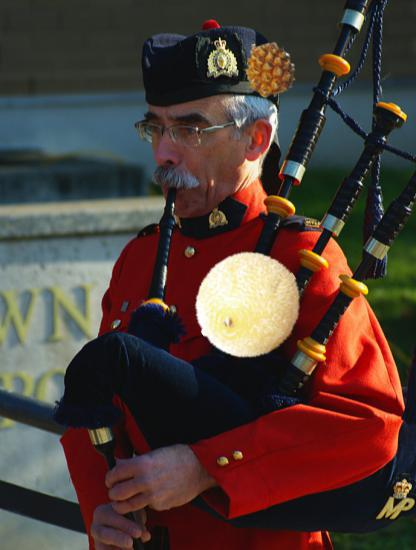Cantaloupe: (194, 251, 303, 360)
Pineapple: (242, 41, 299, 98)
